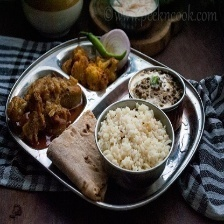rice: (96, 102, 174, 172)
